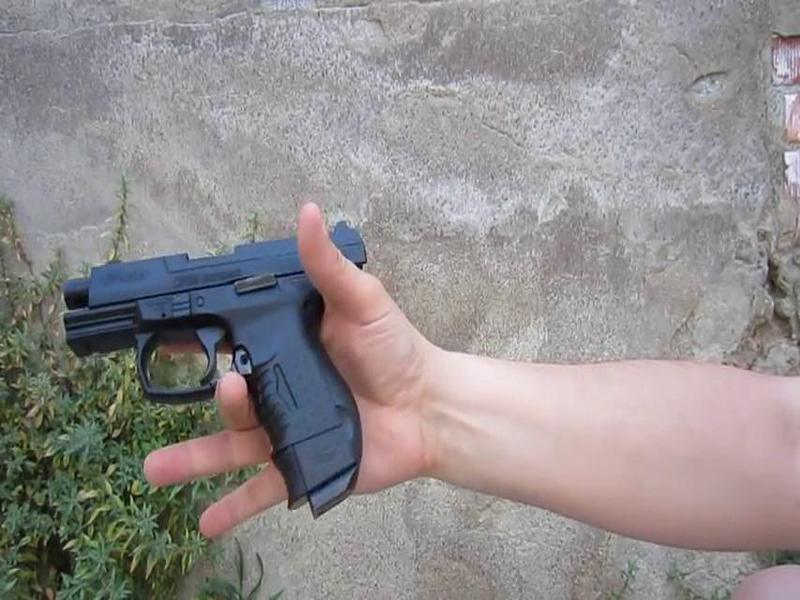Pistola: (47, 212, 400, 512)
